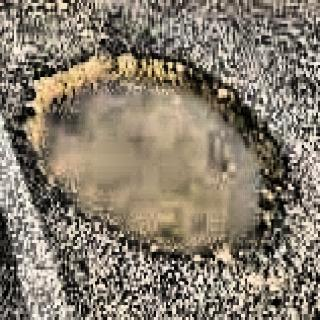pothole: (27, 48, 292, 263)
